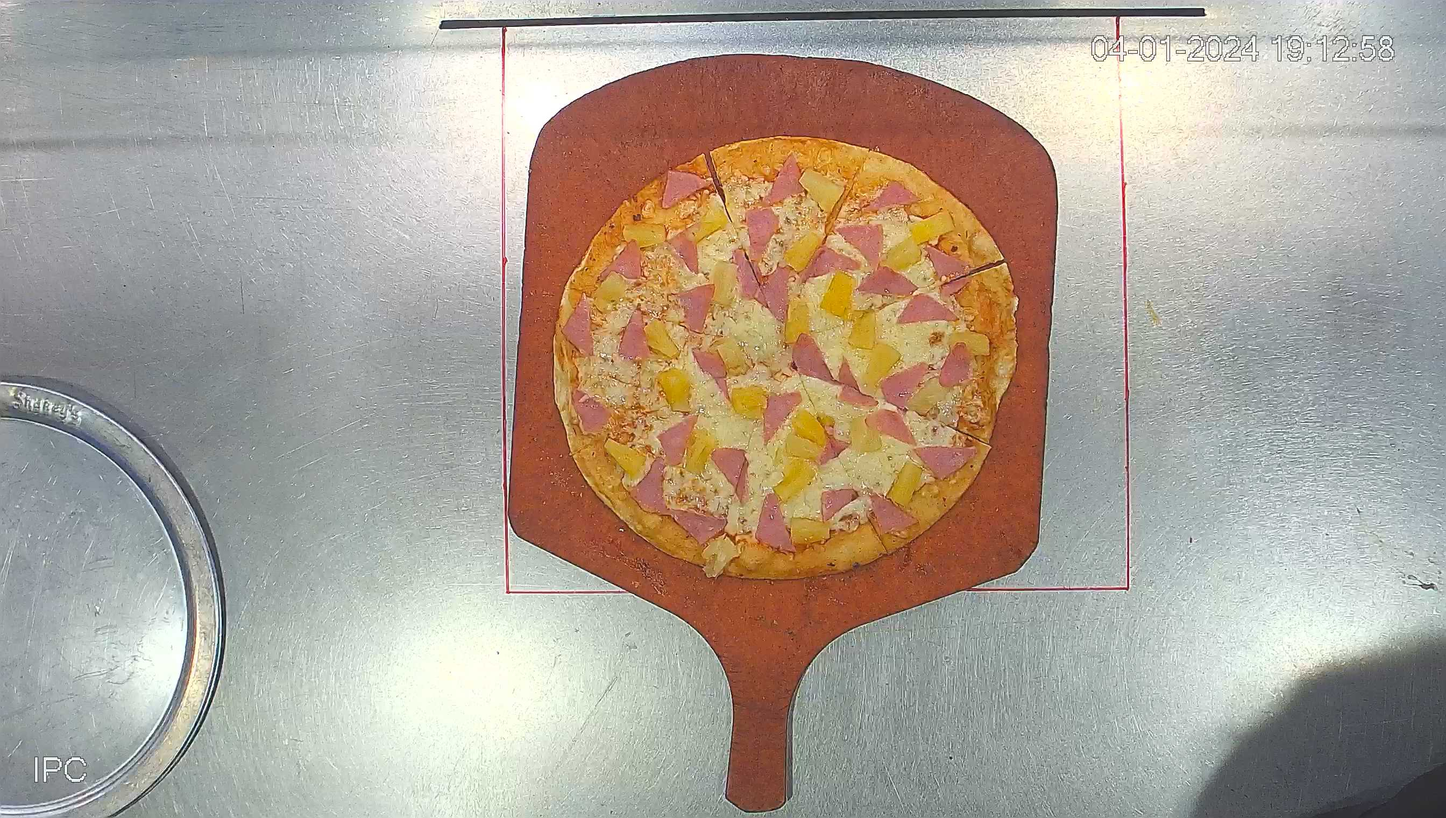manager_choice: (554, 136, 1018, 577)
